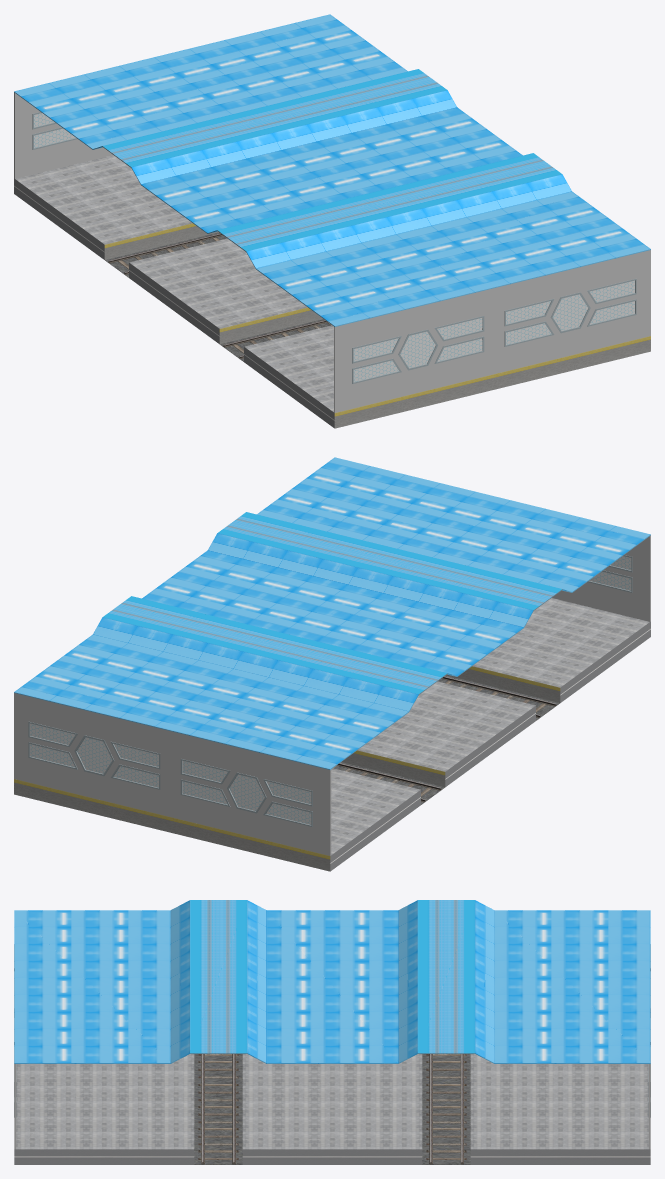
Rendered from Station04B.FBX.
3 renders of one model, top to bottom at view 1: azimuth 30°, elevation 25°; view 2: azimuth 150°, elevation 25°; view 3: azimuth 270°, elevation 25°, orthographic.
Visible parts, largest first — view 1: Station04Roof02b, Station04Floorsb, Station04Wall01b, Station04Roof01b, Station04Roof03b, Station04WallWindGlassb, Station04WallWindb, Station04FloorWayb, Station04Railwayb; view 2: Station04Roof02b, Station04Floorsb, Station04Wall01b, Station04Roof01b, Station04Roof03b, Station04WallWindGlassb, Station04WallWindb, Station04FloorWayb, Station04Railwayb; view 3: Station04Roof02b, Station04Floorsb, Station04Roof01b, Station04Roof03b, Station04FloorWayb, Station04Railwayb, Station04Wall01b, Station04WallWindb.
Boxes of the visible parts, left/top/right/bottom form: Station04Roof02b: left=14, top=14, right=650, bottom=326; Station04Floorsb: left=14, top=155, right=650, bottom=428; Station04Wall01b: left=14, top=92, right=650, bottom=412; Station04Roof01b: left=102, top=69, right=561, bottom=251; Station04Roof03b: left=93, top=90, right=571, bottom=268; Station04WallWindGlassb: left=34, top=113, right=634, bottom=381; Station04WallWindb: left=32, top=112, right=636, bottom=383; Station04FloorWayb: left=105, top=232, right=330, bottom=361; Station04Railwayb: left=108, top=233, right=331, bottom=358; Station04Roof02b: left=14, top=457, right=650, bottom=769; Station04Floorsb: left=14, top=598, right=650, bottom=871; Station04Wall01b: left=14, top=535, right=650, bottom=855; Station04Roof01b: left=103, top=512, right=562, bottom=694; Station04Roof03b: left=93, top=533, right=571, bottom=711; Station04WallWindGlassb: left=30, top=556, right=631, bottom=824; Station04WallWindb: left=28, top=555, right=632, bottom=826; Station04FloorWayb: left=334, top=675, right=559, bottom=804; Station04Railwayb: left=333, top=676, right=556, bottom=801; Station04Roof02b: left=14, top=910, right=650, bottom=1063; Station04Floorsb: left=14, top=1054, right=650, bottom=1164; Station04Roof01b: left=190, top=900, right=475, bottom=1053; Station04Roof03b: left=170, top=900, right=494, bottom=1063; Station04FloorWayb: left=194, top=1054, right=470, bottom=1164; Station04Railwayb: left=198, top=1054, right=466, bottom=1164; Station04Wall01b: left=14, top=1064, right=650, bottom=1149; Station04WallWindb: left=14, top=944, right=650, bottom=1117.
Bounding box in the file's own units: 1417 × 482 × 2494.
